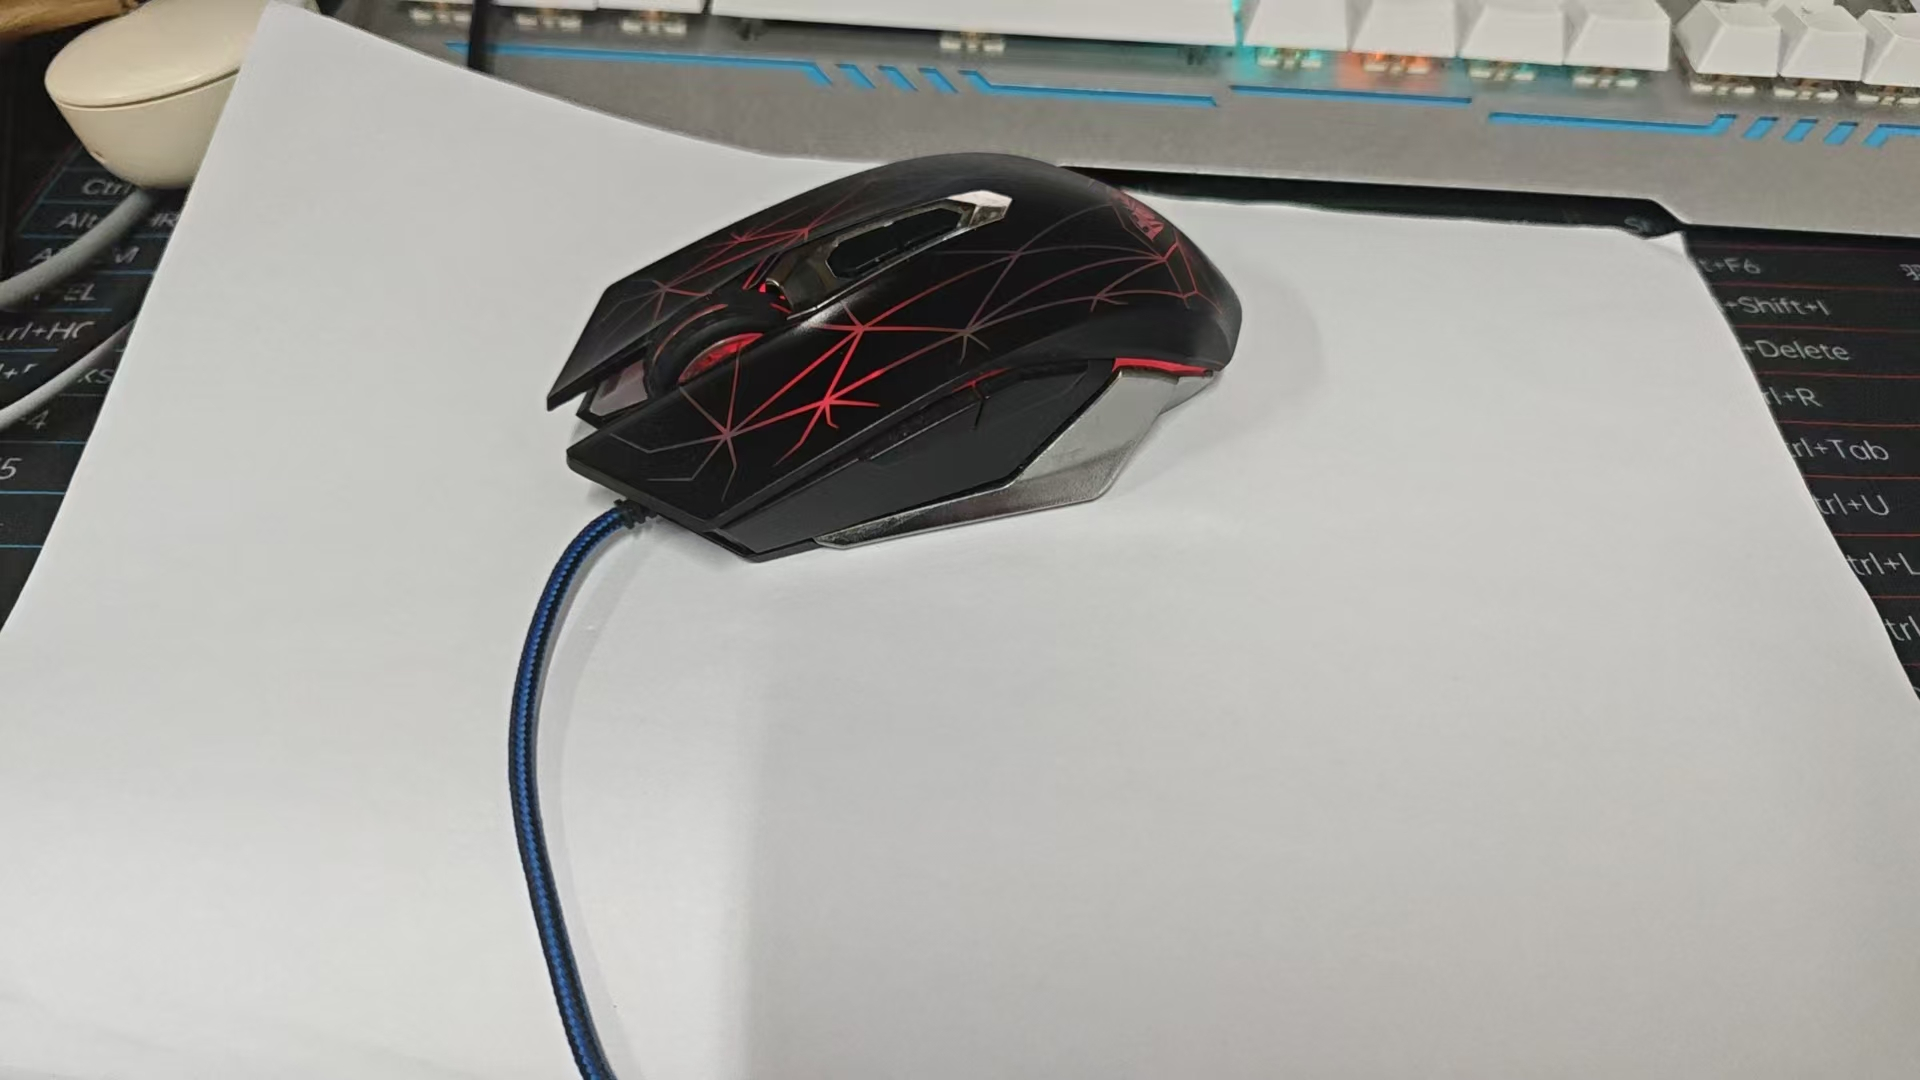mouse: (428, 138, 1351, 606)
